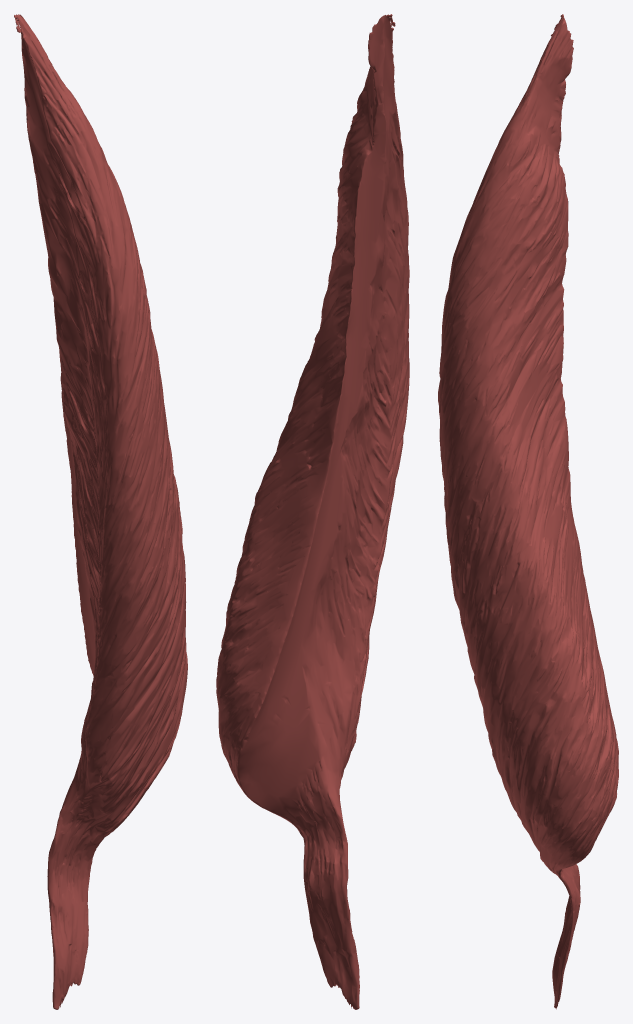
File: FMA38932.glb
3 renders of one model, left to right at view 1: azimuth 30°, elevation 25°; view 2: azimuth 150°, elevation 25°; view 3: azimuth 270°, elevation 25°, orthographic. The views are drawn at different scales.
Parts seen in each view (by area): view 1: FMA38932; view 2: FMA38932; view 3: FMA38932.
Part boxes in pixels (x1,y1,x2,y2): FMA38932: (14,14,187,1009); FMA38932: (216,14,409,1009); FMA38932: (438,14,618,1009).
Size of the model in its own units: 0.0696 by 0.3947 by 0.0663.
